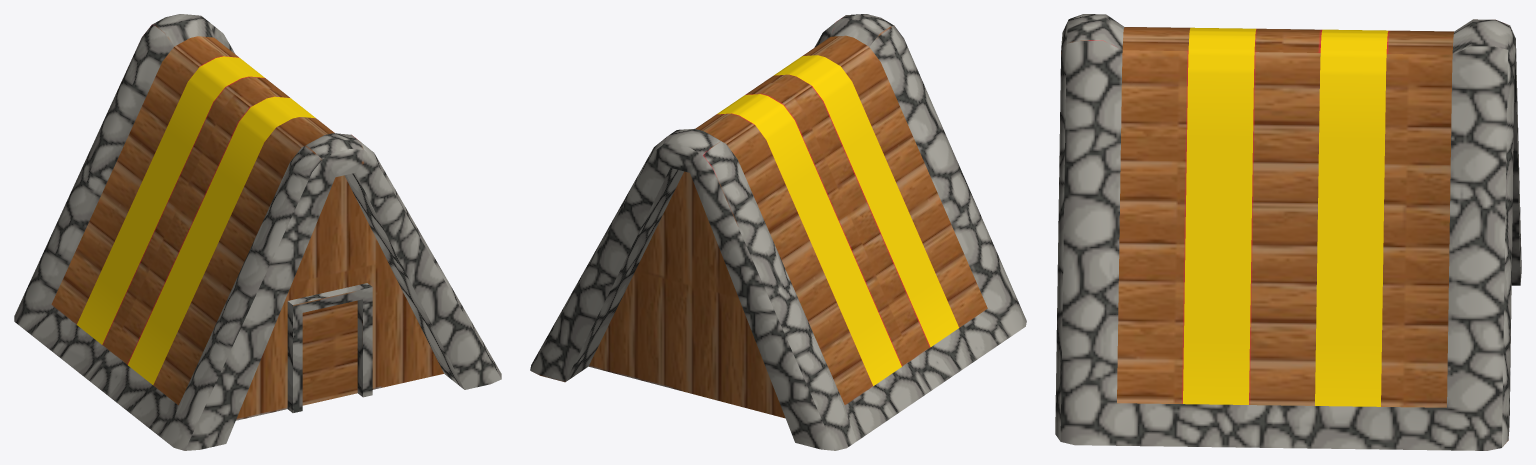
File: props_s_house.fbx
3 views of the same model, side by side, from view 1: azimuth 30°, elevation 25°; view 2: azimuth 150°, elevation 25°; view 3: azimuth 270°, elevation 25° (orthographic). The views are drawn at different scales.
Visible parts, largest first — view 1: House.008; view 2: House.008; view 3: House.008.
Part boxes in pixels (x1,y1,x2,y2): House.008: [14, 14, 501, 450]; House.008: [530, 14, 1026, 450]; House.008: [1055, 14, 1521, 450].
Size of the model in its own units: 59.31 by 46.14 by 59.27.
